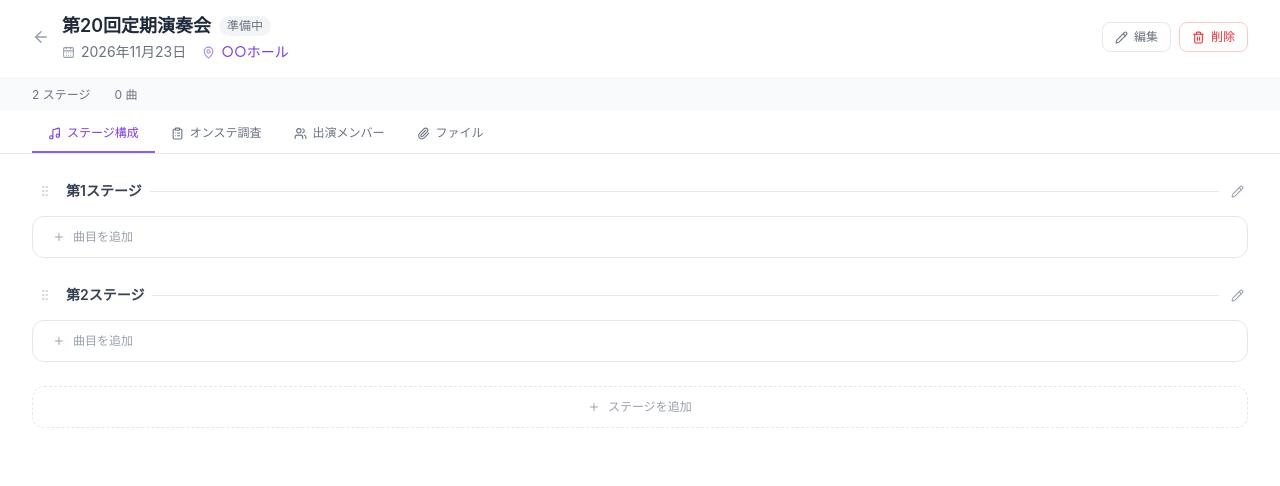
Test: ConcertDetailPage（失敗の表示） › ステージ名の保存の失敗は、そのステージの入力欄の下に出る
Click the button named "第1ステージの名前を編集" at (1238, 191), box [1227,180,1248,202]
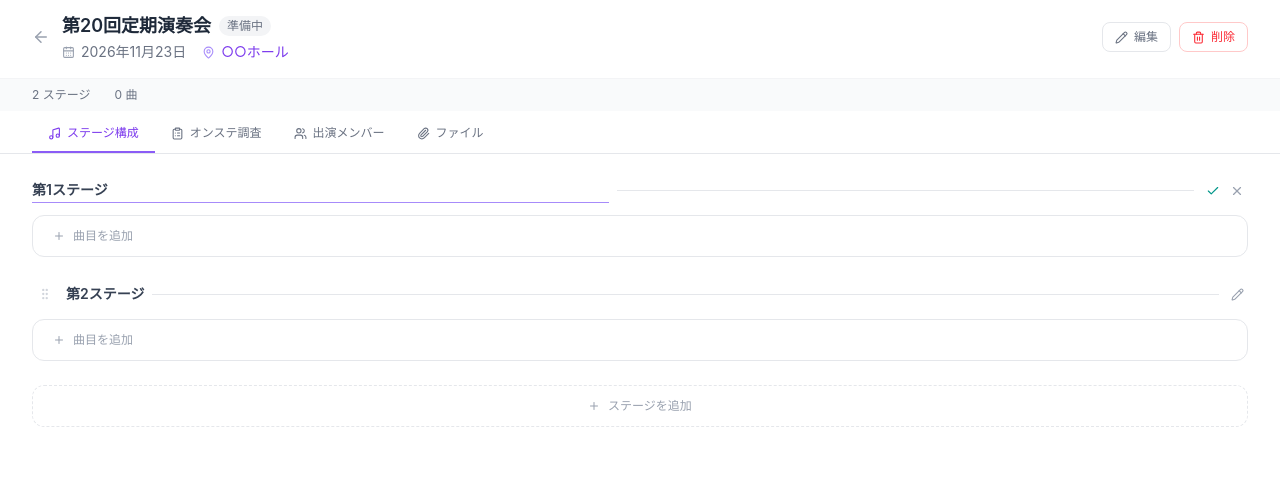
Type "改" into the field named "ステージ名" at (320, 190), box [32,178,609,203]
Then press Enter
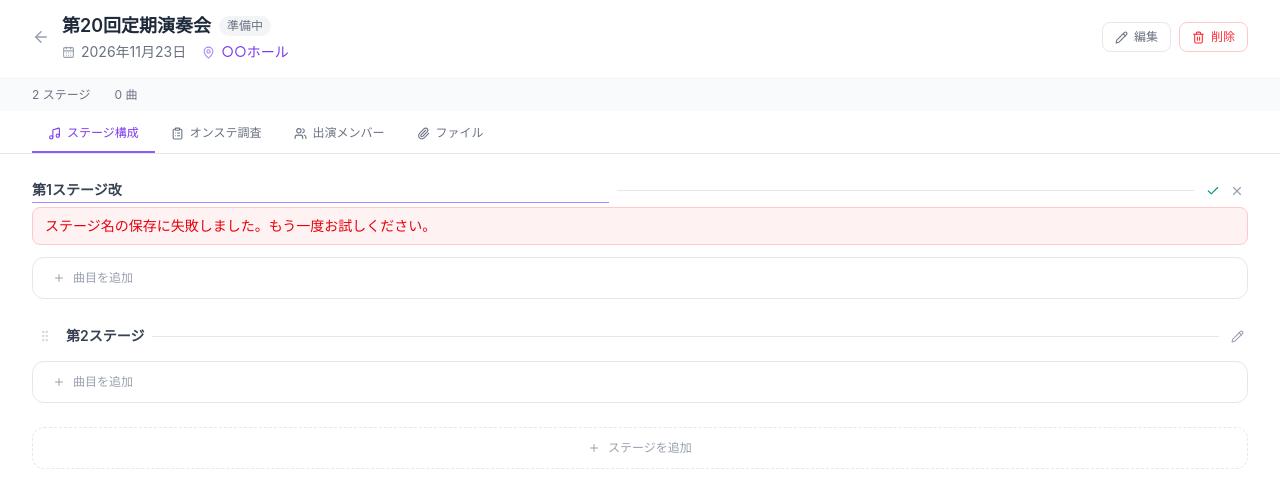
Check: the message reads "ステージ名の保存に失敗しました。もう一度お試しください。", box [45,217,436,234]
